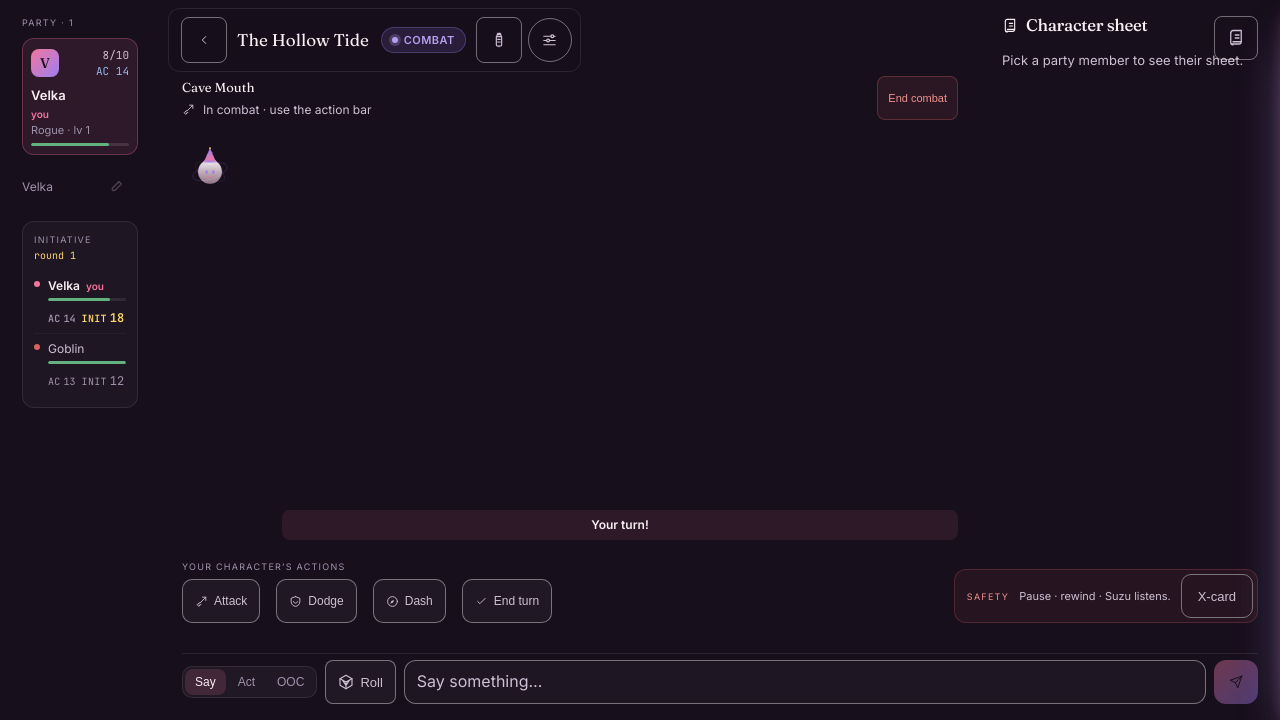
Test: end-turn: already_advanced › absent: the beat is drawn and narrated, as today
The width and height of the screenshot is (1280, 720).
Expected: the text "The Hollow Tide" is shown, [237, 27, 369, 53]
Click the button "End turn": click(507, 601) [462, 579, 552, 623]
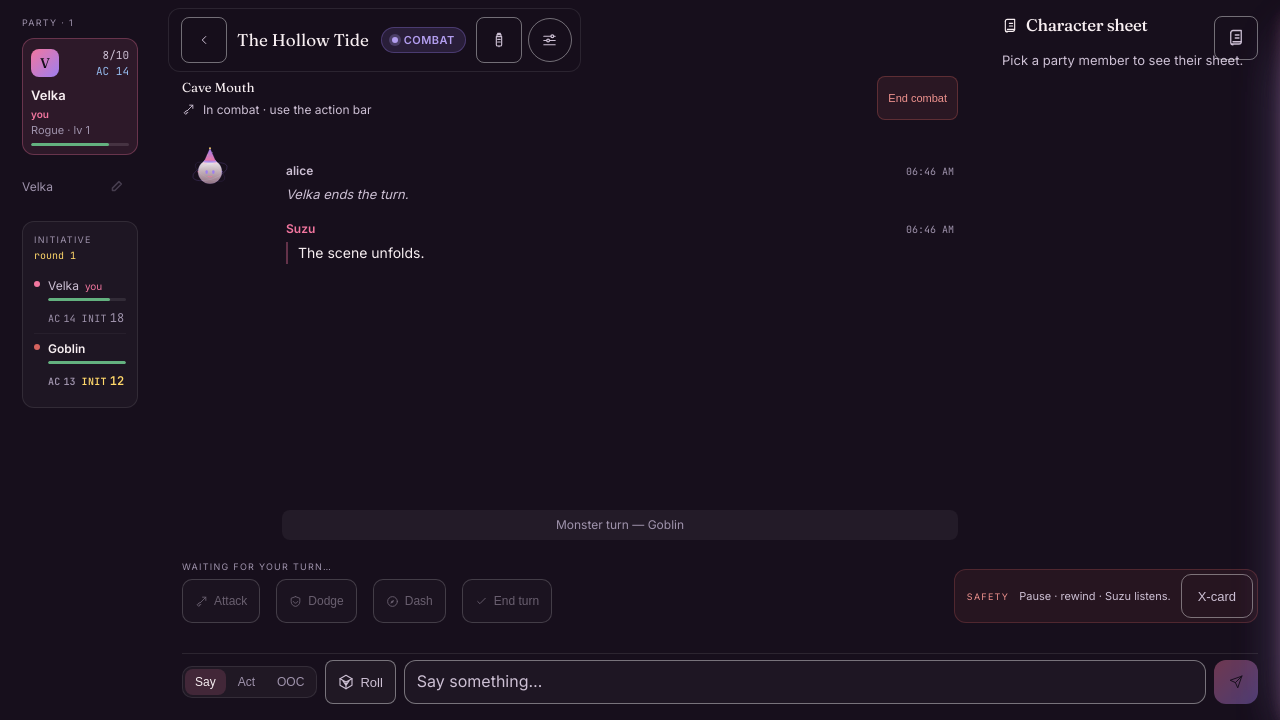
Expected: the text "Velka ends the turn." is shown, [286, 186, 408, 202]
